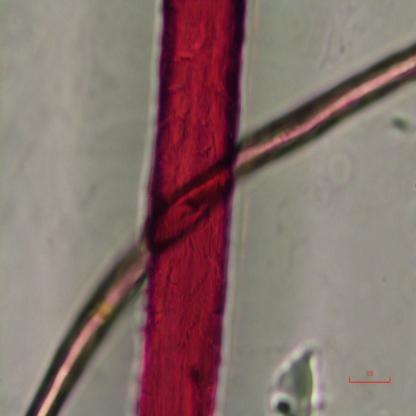Background material: (262, 337, 329, 414), (325, 151, 356, 186), (387, 115, 416, 137)
Hair textile: (134, 0, 250, 416)
Microfibre: (234, 46, 416, 184), (25, 229, 149, 415)
